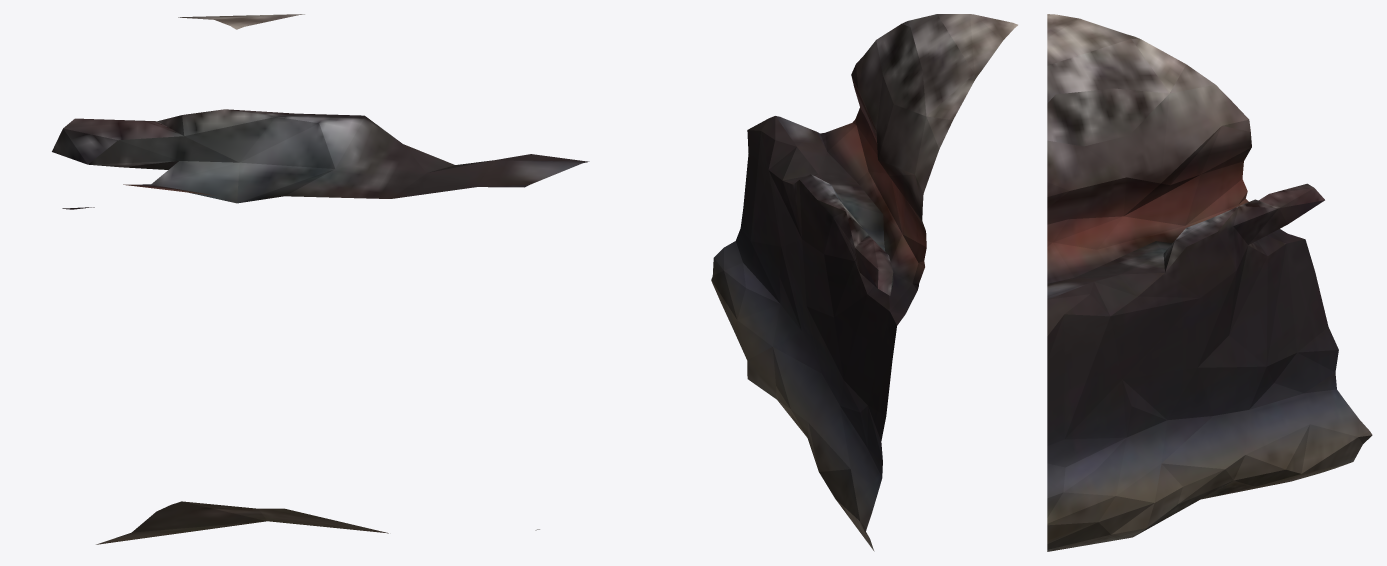
3 renders of one model, left to right at view 1: azimuth 30°, elevation 25°; view 2: azimuth 150°, elevation 25°; view 3: azimuth 270°, elevation 25°, orthographic. The views are drawn at different scales.
Size of the model in its own units: 0.2347 by 0.3159 by 0.2025.
1 material, 1 textured.
